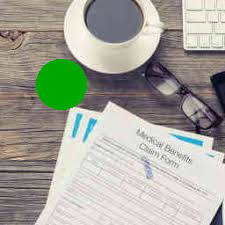focus: (33, 56, 89, 110)
